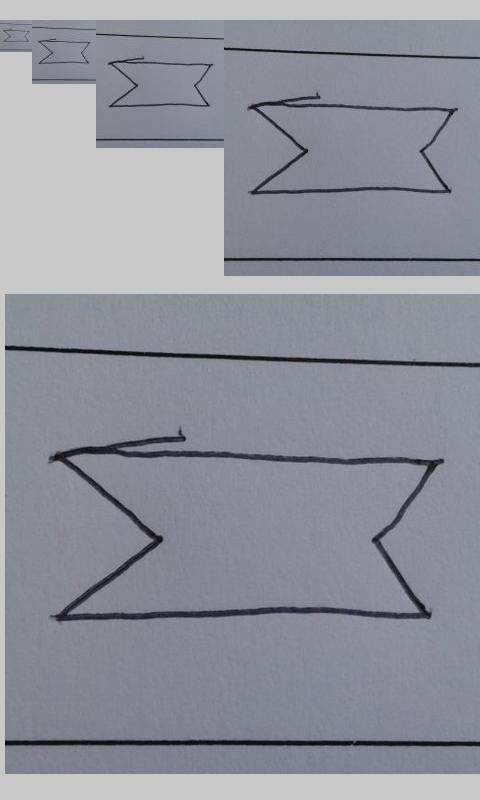edit_text: (47, 439, 439, 624), (247, 98, 456, 197), (109, 60, 214, 109), (37, 40, 90, 64), (3, 29, 30, 43)
